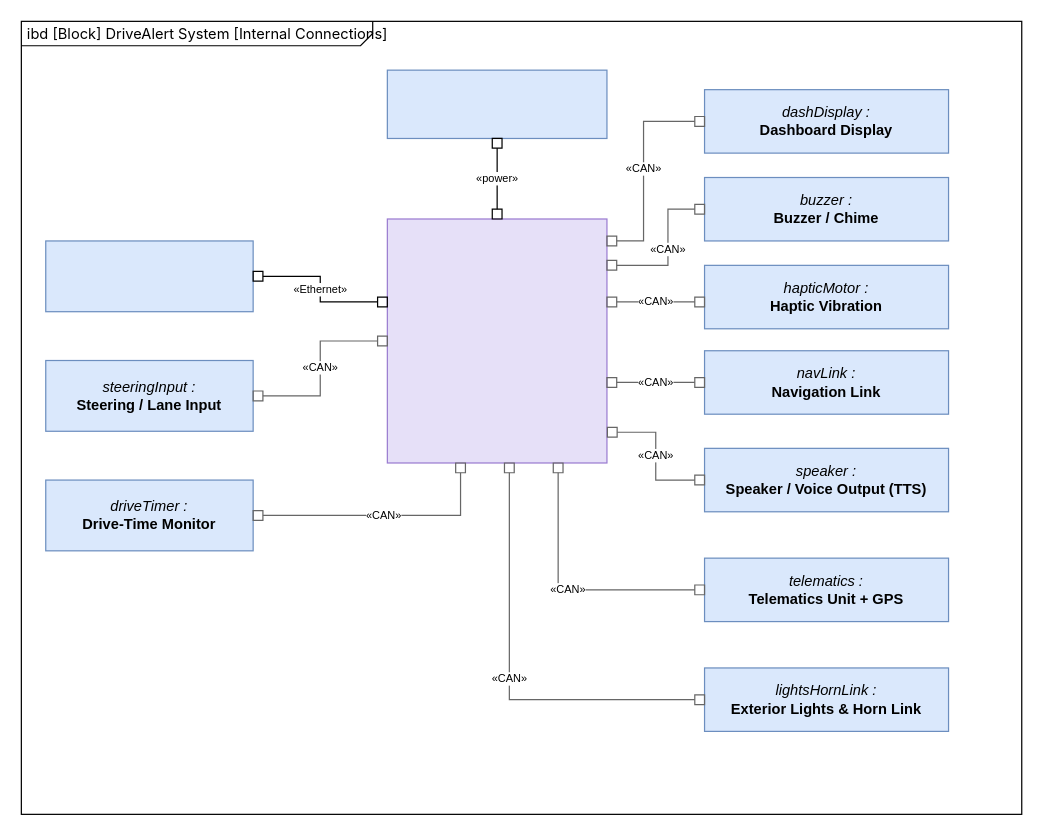
Some shapes in this 1043 by 836 pixel diagram are drawn without their labels. The centre of each missing label's shape, as x and y in pixels:
cam : IR Driver Camera: point (149, 276)
ecu : Driver Monitoring ECU classifyState() · selectAlert(): point (496, 340)
pwr : Power Supply: point (496, 103)
